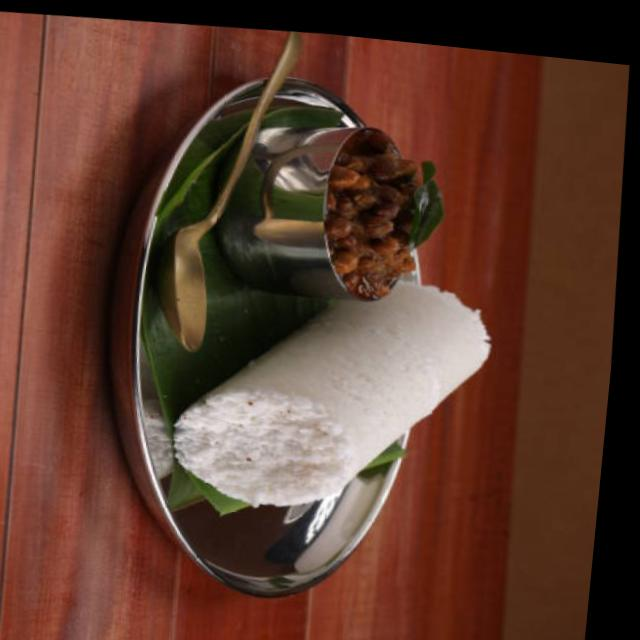CURRY: (318, 130, 419, 298)
PUTTU: (163, 279, 489, 507)
